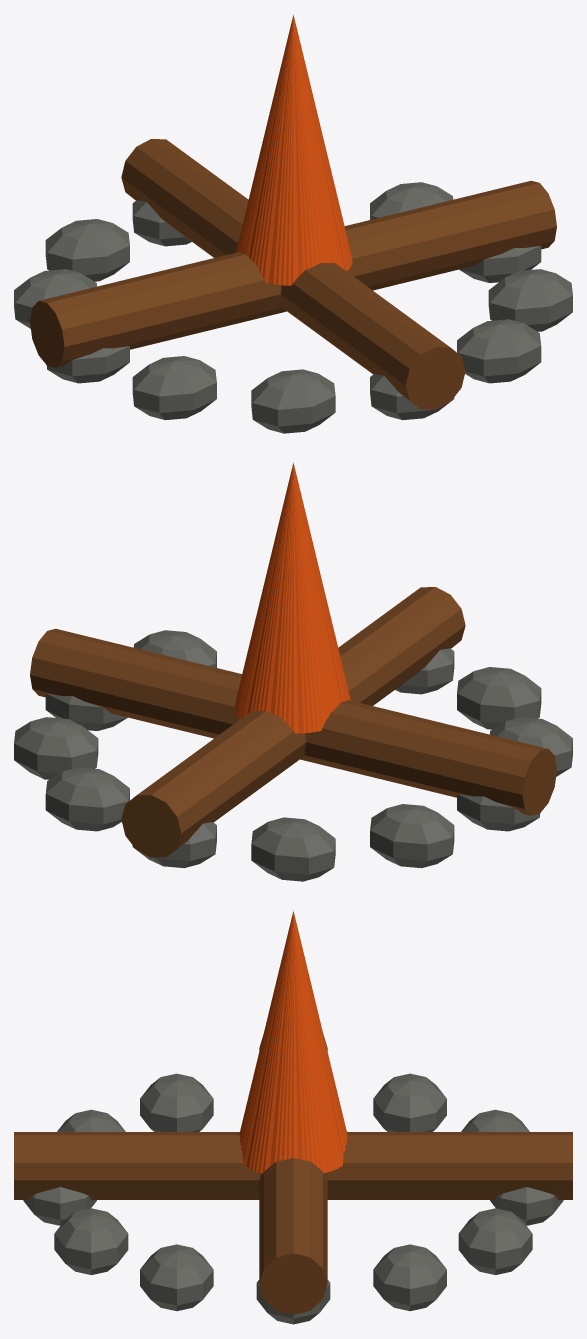
File: campfire.obj
The picture shows the model from 3 angles, top to bottom: view 1: azimuth 30°, elevation 25°; view 2: azimuth 150°, elevation 25°; view 3: azimuth 270°, elevation 25°; orthographic projection.
Parts seen in each view (by area): view 1: log_3, log_4, log_1, log_2, flame_orange_1, flame_orange_2, stone_4, stone_5, stone_2, stone_1, stone_8, flame_orange_3 (+8 smaller); view 2: log_4, log_3, log_2, log_1, flame_orange_1, flame_orange_2, stone_8, stone_7, stone_10, stone_11, stone_4, flame_orange_3 (+8 smaller); view 3: log_1, log_2, log_3, flame_orange_1, flame_orange_2, stone_2, stone_10, stone_1, stone_11, flame_orange_3, stone_5, stone_7 (+8 smaller).
Boxes of the visible parts, x1,y1,x2,y2 form: log_3: [227, 180, 556, 325]; log_4: [30, 222, 377, 367]; log_1: [220, 214, 465, 409]; log_2: [121, 139, 350, 334]; flame_orange_1: [236, 14, 352, 285]; flame_orange_2: [238, 16, 349, 284]; stone_4: [251, 369, 335, 433]; stone_5: [132, 356, 216, 420]; stone_2: [457, 319, 541, 383]; stone_1: [488, 269, 572, 331]; stone_8: [45, 219, 129, 281]; flame_orange_3: [236, 16, 352, 285]; log_4: [204, 670, 556, 815]; log_3: [30, 628, 365, 773]; log_2: [121, 662, 366, 857]; log_1: [236, 587, 465, 782]; flame_orange_1: [234, 462, 350, 733]; flame_orange_2: [235, 464, 350, 733]; stone_8: [251, 817, 335, 881]; stone_7: [370, 804, 454, 868]; stone_10: [45, 767, 129, 831]; stone_11: [14, 717, 98, 779]; stone_4: [457, 667, 541, 729]; flame_orange_3: [236, 464, 349, 731]; log_1: [14, 1132, 378, 1199]; log_2: [208, 1132, 572, 1199]; log_3: [259, 1158, 327, 1314]; flame_orange_1: [239, 910, 347, 1173]; flame_orange_2: [239, 912, 346, 1172]; stone_2: [54, 1208, 128, 1274]; stone_10: [458, 1208, 532, 1274]; stone_1: [140, 1244, 213, 1311]; stone_11: [373, 1244, 446, 1311]; flame_orange_3: [239, 913, 347, 1173]; stone_5: [140, 1073, 213, 1131]; stone_7: [373, 1073, 446, 1131].
Size of the model in its own units: 1.15 by 0.7 by 1.15.
